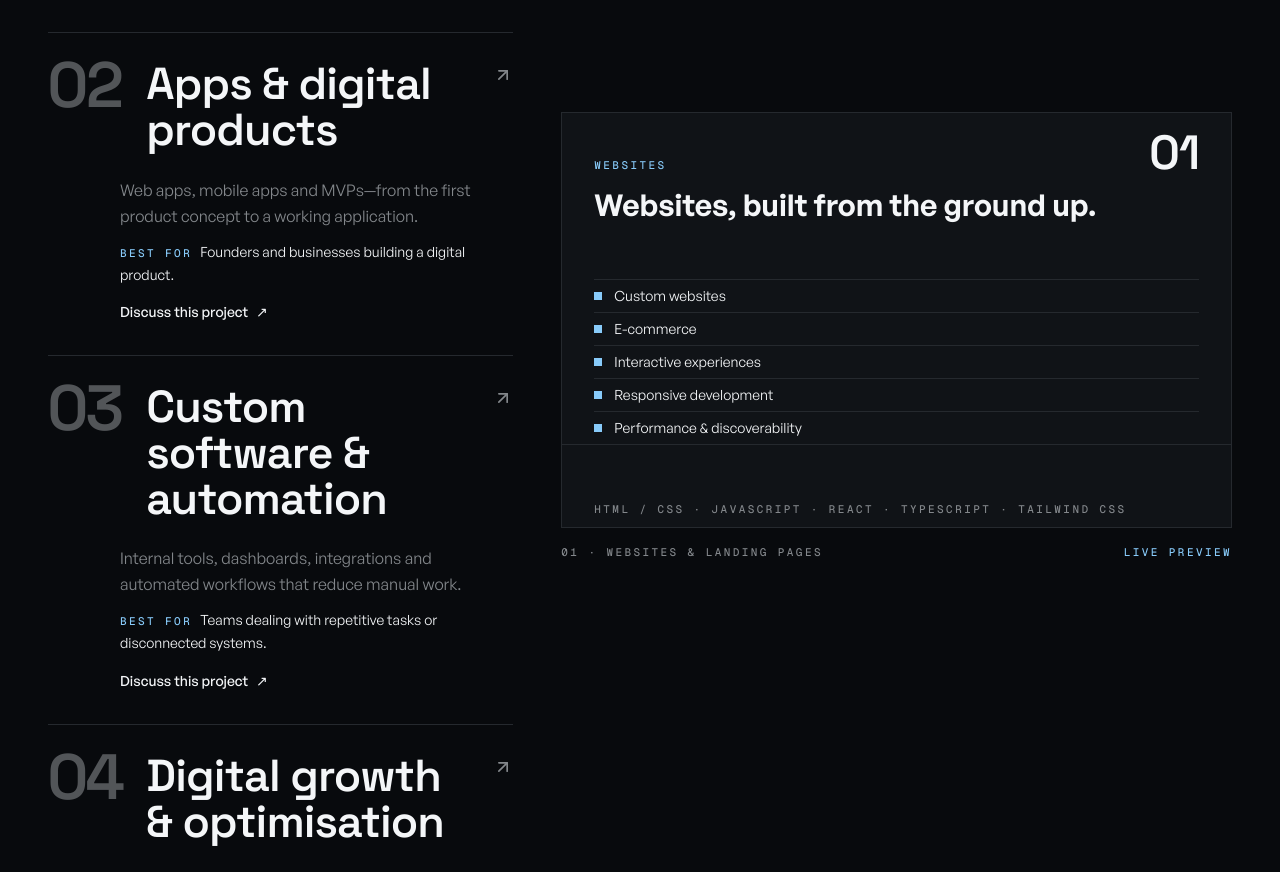
ServicesSection — preserved mobile accordion › expands exactly one service at a time and renders its own preview
(page scrolled)
Step 1. Click the button "03 Custom software & automation" → (281, 451), box x1=48 y1=356 x2=513 y2=545
(page scrolled)
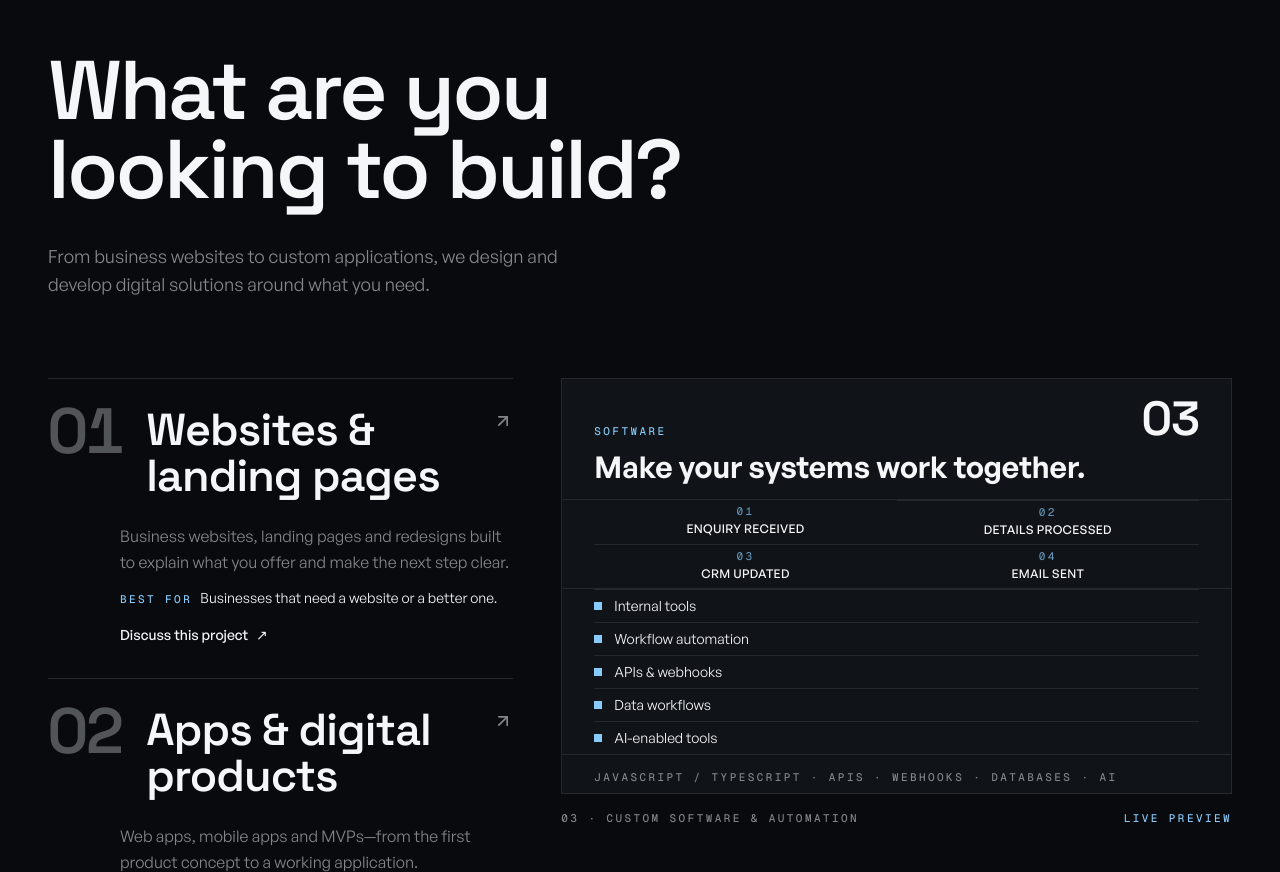
Check: the button "01 Websites & landing pages" is collapsed, box x1=48 y1=379 x2=513 y2=523
